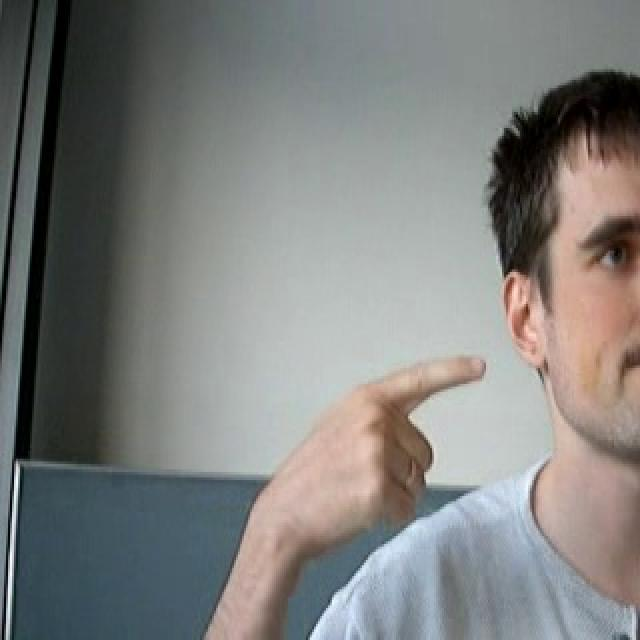G: (216, 337, 498, 569)
